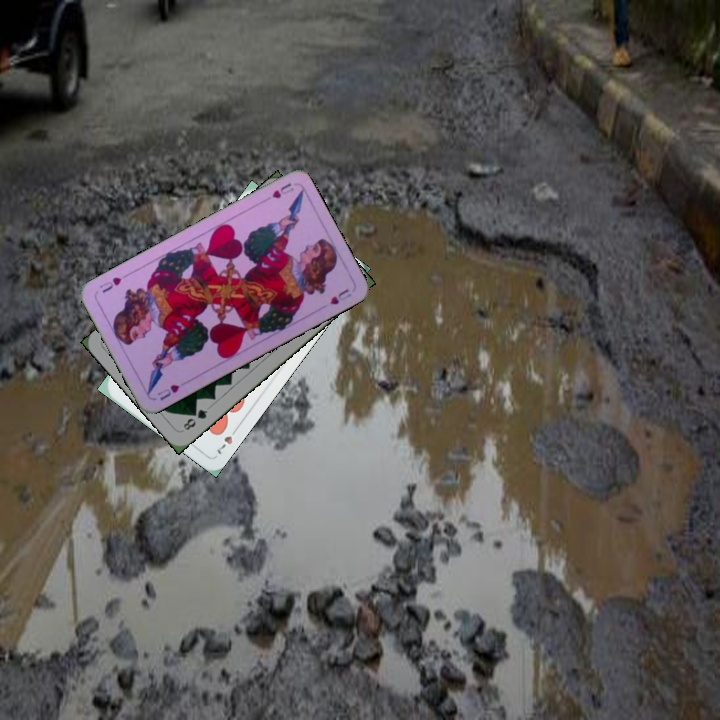G8: (179, 405, 210, 433)
H7: (213, 423, 241, 458)
HU: (258, 179, 296, 205), (153, 380, 182, 403)
